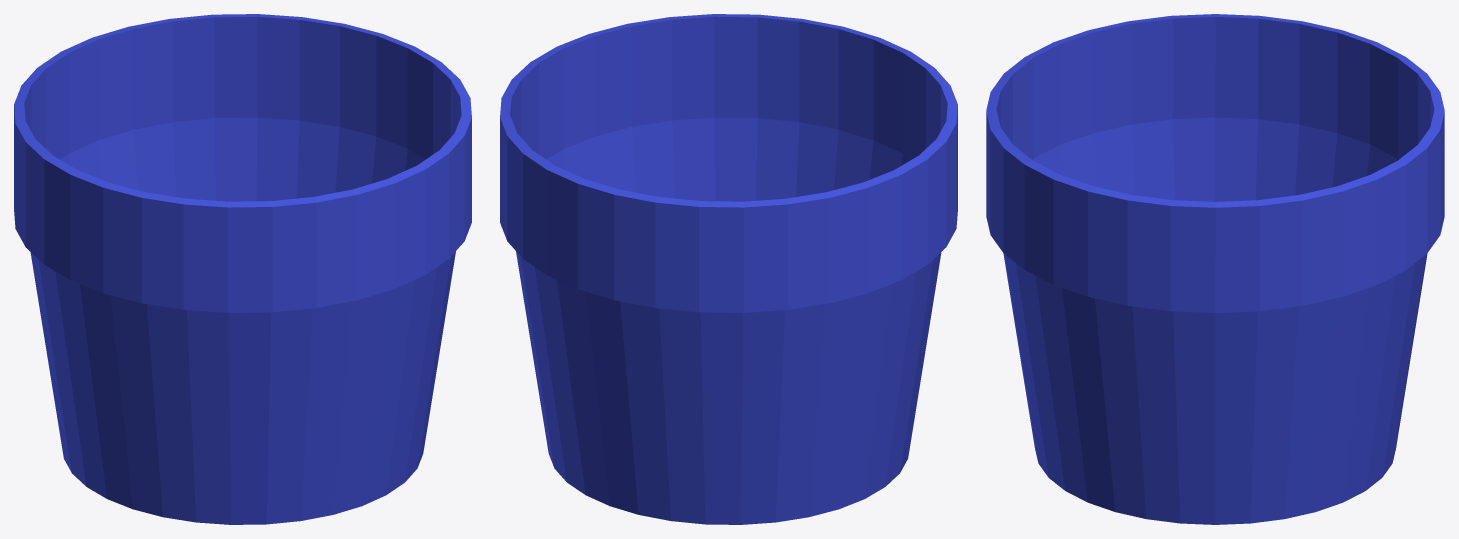
File: PlantPot.fbx
The picture shows the model from 3 angles, left to right: view 1: azimuth 30°, elevation 25°; view 2: azimuth 150°, elevation 25°; view 3: azimuth 270°, elevation 25°; orthographic projection.
Parts seen in each view (by area): view 1: Small_PlatPot; view 2: Small_PlatPot; view 3: Small_PlatPot.
Boxes of the visible parts, left/top/right/bottom form: Small_PlatPot: left=14, top=14, right=471, bottom=524; Small_PlatPot: left=500, top=14, right=957, bottom=524; Small_PlatPot: left=986, top=14, right=1444, bottom=524.
Size of the model in its own units: 29.65 by 24.21 by 29.65.
